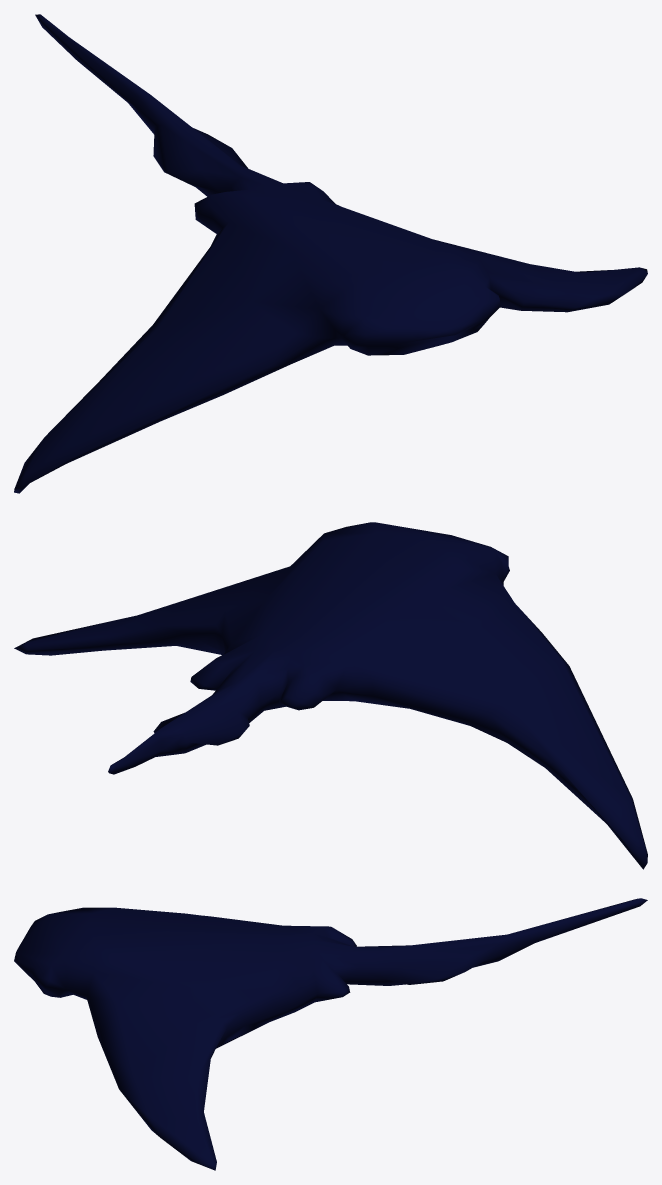
Rendered from MantaRay.fbx.
The picture shows the model from 3 angles, top to bottom: view 1: azimuth 30°, elevation 25°; view 2: azimuth 150°, elevation 25°; view 3: azimuth 270°, elevation 25°; orthographic projection. The views are drawn at different scales.
Visible parts, largest first — view 1: ray_01; view 2: ray_01; view 3: ray_01.
Part boxes in pixels (<box>): ray_01: <box>14,14,647,493</box>; ray_01: <box>14,522,647,869</box>; ray_01: <box>14,898,647,1170</box>.
Size of the model in its own units: 2657 by 892 by 2748.
